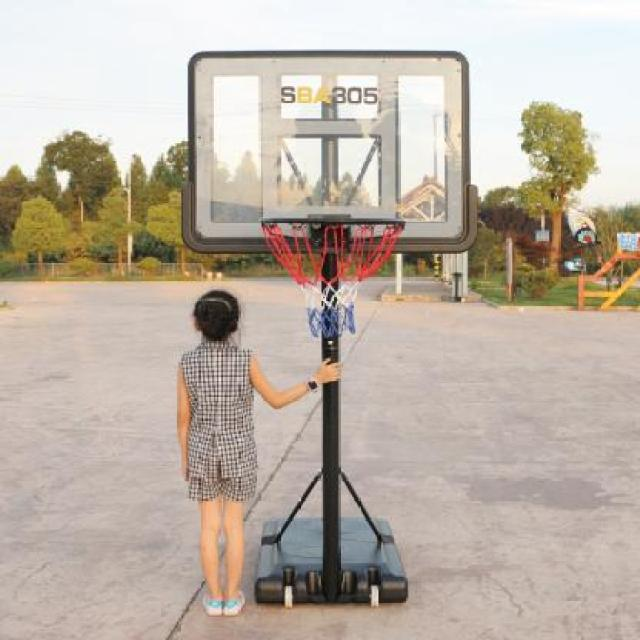rim: (176, 290, 340, 618), (260, 216, 406, 336)
